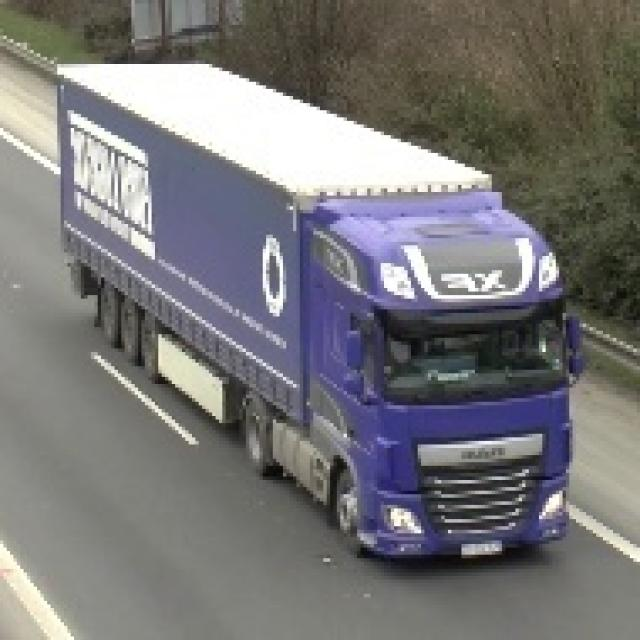TRUCK: (58, 61, 584, 556)
